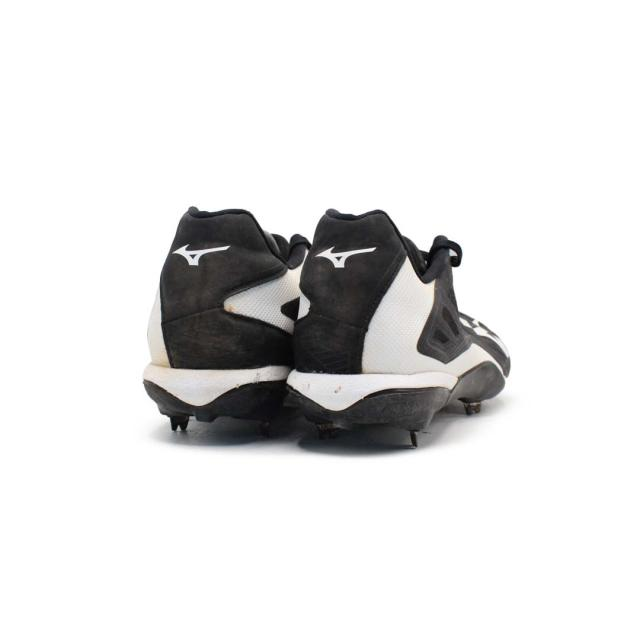heel: (150, 210, 299, 367), (294, 212, 433, 380)
midsole: (287, 364, 505, 424), (138, 367, 291, 423)
